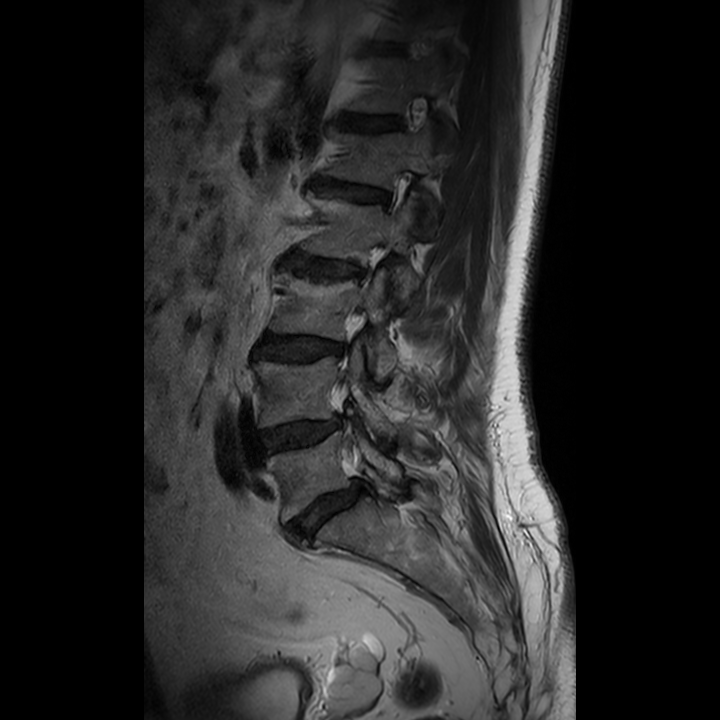LFS0: (368, 154, 422, 225)
